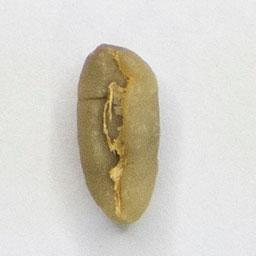longberry: (72, 41, 162, 228)
